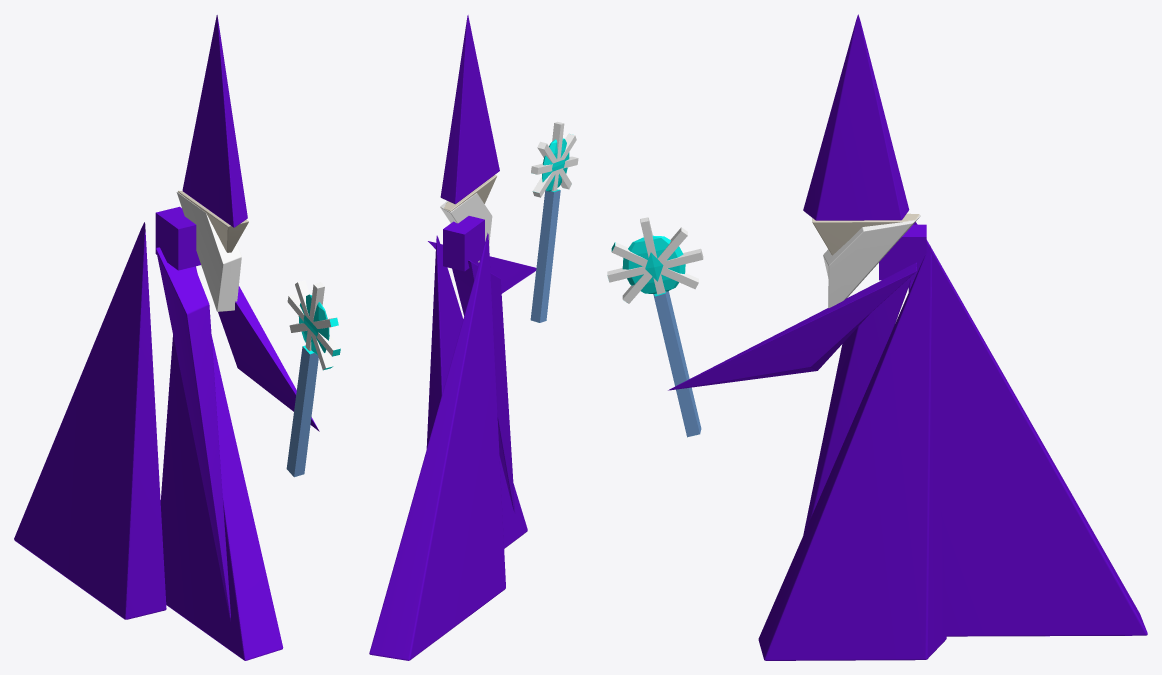
The model's file is wizard.fbx.
3 renders of one model, left to right at view 1: azimuth 30°, elevation 25°; view 2: azimuth 150°, elevation 25°; view 3: azimuth 270°, elevation 25°, orthographic. The views are drawn at different scales.
Parts seen in each view (by area): view 1: pCone3; view 2: pCone3; view 3: pCone3.
Boxes of the visible parts, <box> form: pCone3: <box>14,15,340,660</box>; pCone3: <box>369,15,578,660</box>; pCone3: <box>607,14,1147,660</box>.
Size of the model in its own units: 0.4482 by 2.19 by 2.85.
